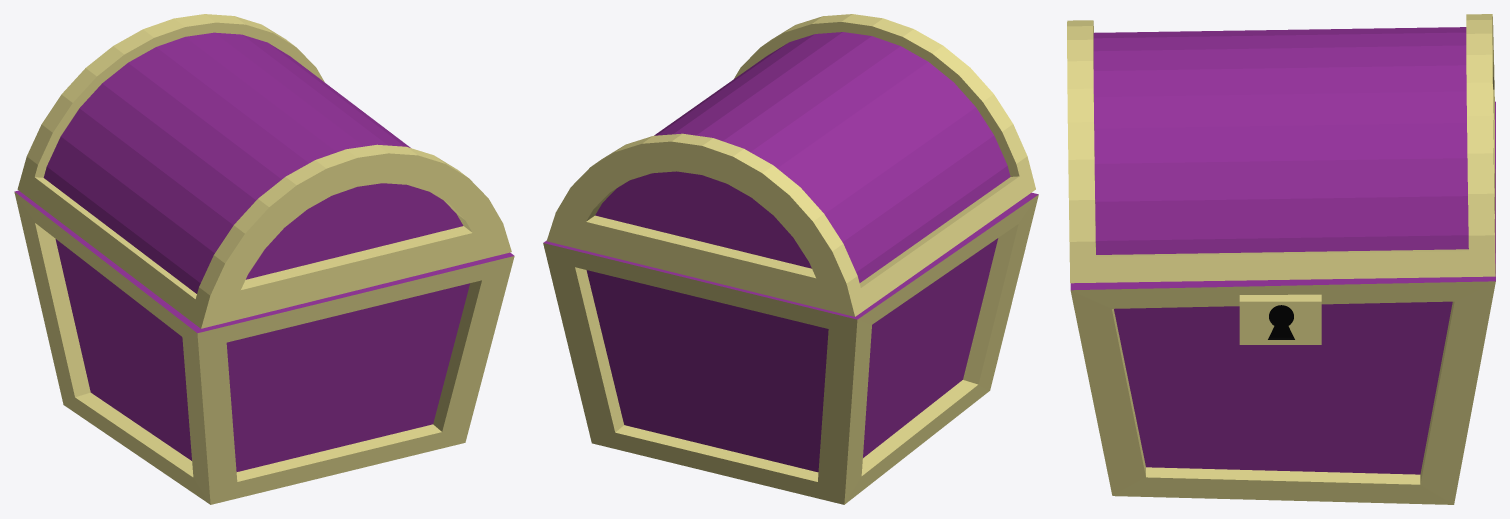
The model's file is item_box.glb.
The picture shows the model from 3 angles, left to right: view 1: azimuth 30°, elevation 25°; view 2: azimuth 150°, elevation 25°; view 3: azimuth 270°, elevation 25°; orthographic projection. The views are drawn at different scales.
Parts seen in each view (by area): view 1: 円柱, 立方体; view 2: 円柱, 立方体; view 3: 円柱, 立方体, 立方体.001.
Part boxes in pixels (x1,y1,x2,y2): 円柱: [17, 14, 511, 328]; 立方体: [14, 190, 514, 504]; 円柱: [546, 14, 1035, 316]; 立方体: [543, 192, 1038, 504]; 円柱: [1067, 14, 1495, 283]; 立方体: [1070, 101, 1495, 504]; 立方体.001: [1239, 294, 1321, 344].
Bounding box in the file's own units: 2.07 × 2.07 × 2.02.
